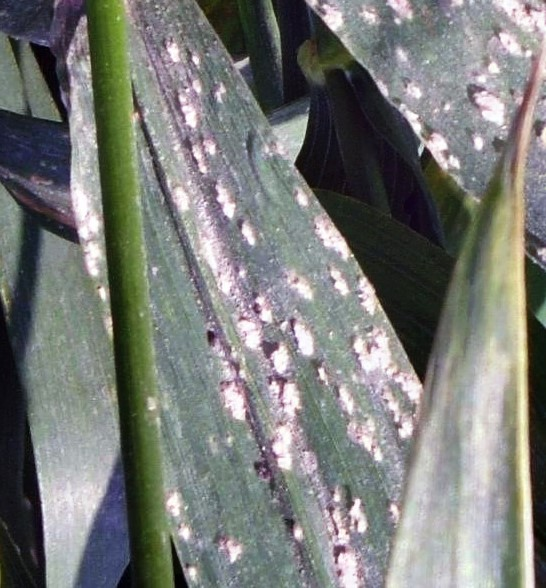Powdery Mildew: (164, 150, 414, 563)
